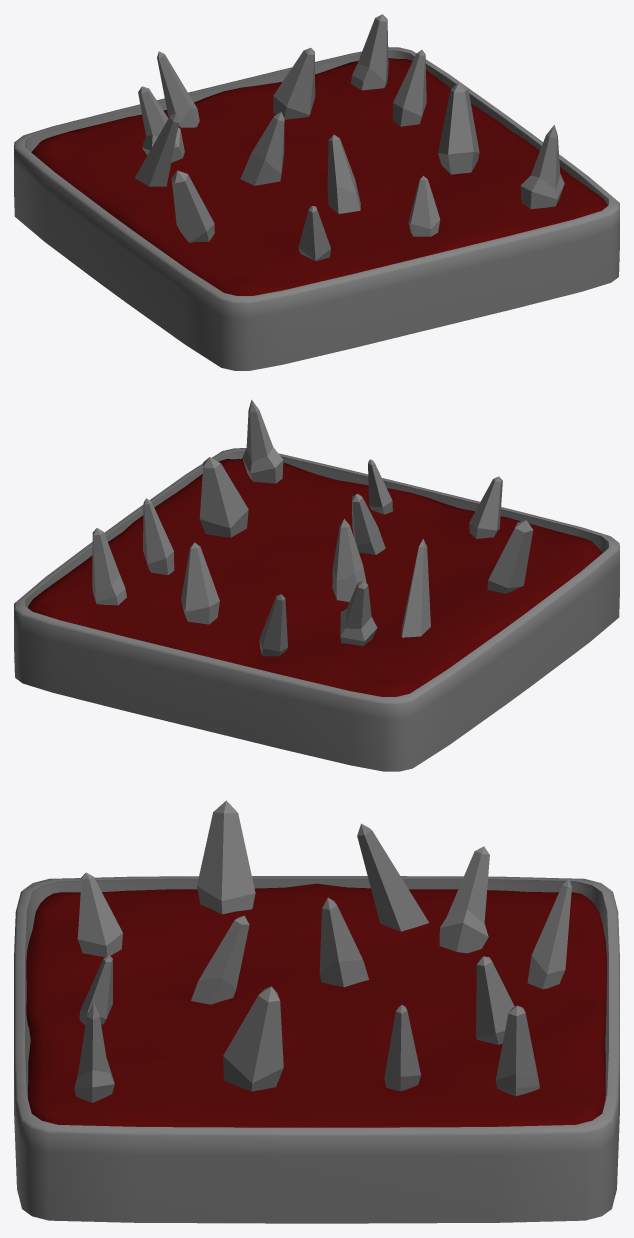
File: lavaSmall.fbx
The picture shows the model from 3 angles, top to bottom: view 1: azimuth 30°, elevation 25°; view 2: azimuth 150°, elevation 25°; view 3: azimuth 270°, elevation 25°; orthographic projection. The views are drawn at different scales.
Visible parts, largest first — view 1: lava003, lavaSmall, Cylinder065, Cylinder060, Cylinder070, Cylinder063, Cylinder078, Cylinder068, Cylinder064, Cylinder073, Cylinder066, Cylinder067 (+3 smaller); view 2: lava003, lavaSmall, Cylinder065, Cylinder070, Cylinder060, Cylinder063, Cylinder066, Cylinder068, Cylinder078, Cylinder075, Cylinder073, Cylinder062 (+3 smaller); view 3: lava003, lavaSmall, Cylinder063, Cylinder065, Cylinder066, Cylinder075, Cylinder078, Cylinder067, Cylinder068, Cylinder064, Cylinder062, Cylinder070 (+3 smaller).
Part boxes in pixels (x1=…): lava003: x1=31, y1=58, x2=607, y2=295; lavaSmall: x1=14, y1=47, x2=619, y2=370; Cylinder065: x1=438, y1=82, x2=479, y2=174; Cylinder060: x1=520, y1=125, x2=564, y2=209; Cylinder070: x1=273, y1=48, x2=315, y2=119; Cylinder063: x1=171, y1=170, x2=214, y2=242; Cylinder078: x1=240, y1=112, x2=284, y2=185; Cylinder068: x1=350, y1=14, x2=388, y2=90; Cylinder064: x1=327, y1=134, x2=360, y2=213; Cylinder073: x1=393, y1=50, x2=426, y2=126; Cylinder066: x1=135, y1=113, x2=178, y2=186; Cylinder067: x1=157, y1=51, x2=199, y2=127; lava003: x1=28, y1=458, x2=602, y2=696; lavaSmall: x1=14, y1=448, x2=619, y2=771; Cylinder065: x1=199, y1=457, x2=248, y2=537; Cylinder070: x1=181, y1=542, x2=219, y2=624; Cylinder060: x1=242, y1=399, x2=283, y2=483; Cylinder063: x1=487, y1=520, x2=533, y2=593; Cylinder066: x1=401, y1=539, x2=430, y2=637; Cylinder068: x1=92, y1=528, x2=126, y2=605; Cylinder078: x1=332, y1=519, x2=366, y2=601; Cylinder075: x1=340, y1=580, x2=377, y2=646; Cylinder073: x1=143, y1=498, x2=174, y2=574; Cylinder062: x1=469, y1=476, x2=502, y2=538; lava003: x1=26, y1=883, x2=607, y2=1127; lavaSmall: x1=14, y1=876, x2=619, y2=1223; Cylinder063: x1=197, y1=800, x2=255, y2=914; Cylinder065: x1=223, y1=986, x2=283, y2=1091; Cylinder066: x1=357, y1=823, x2=428, y2=931; Cylinder075: x1=439, y1=846, x2=489, y2=953; Cylinder078: x1=319, y1=897, x2=368, y2=987; Cylinder067: x1=527, y1=879, x2=571, y2=989; Cylinder068: x1=495, y1=1005, x2=539, y2=1096; Cylinder064: x1=191, y1=915, x2=249, y2=1004; Cylinder062: x1=77, y1=872, x2=122, y2=957; Cylinder070: x1=476, y1=956, x2=514, y2=1044.
Bounding box in the file's own units: 1 × 0.3475 × 0.9895.
